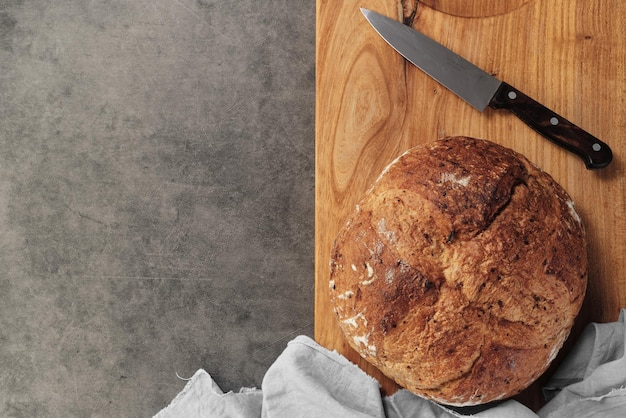knife: (360, 4, 615, 171)
